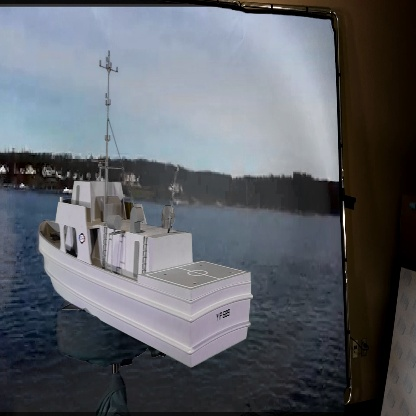YP689: (38, 49, 252, 369)
